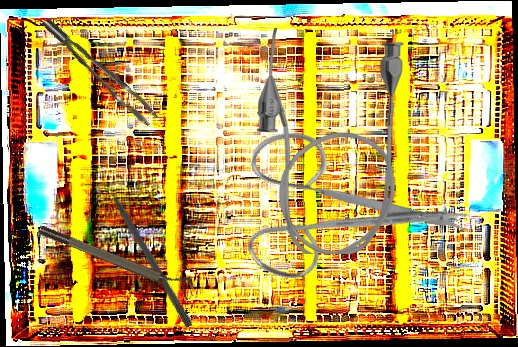Cannula: (255, 27, 404, 256)
Fixation Ring: (37, 216, 197, 301)
Iris Scissors: (201, 66, 480, 339)
Pusher: (98, 171, 195, 329)
Tissue Forceps: (42, 4, 159, 137)
